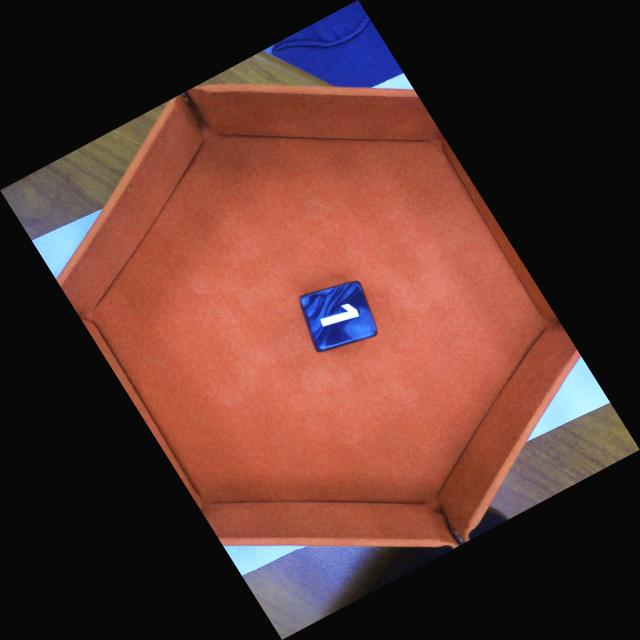dice: (303, 283, 377, 350)
